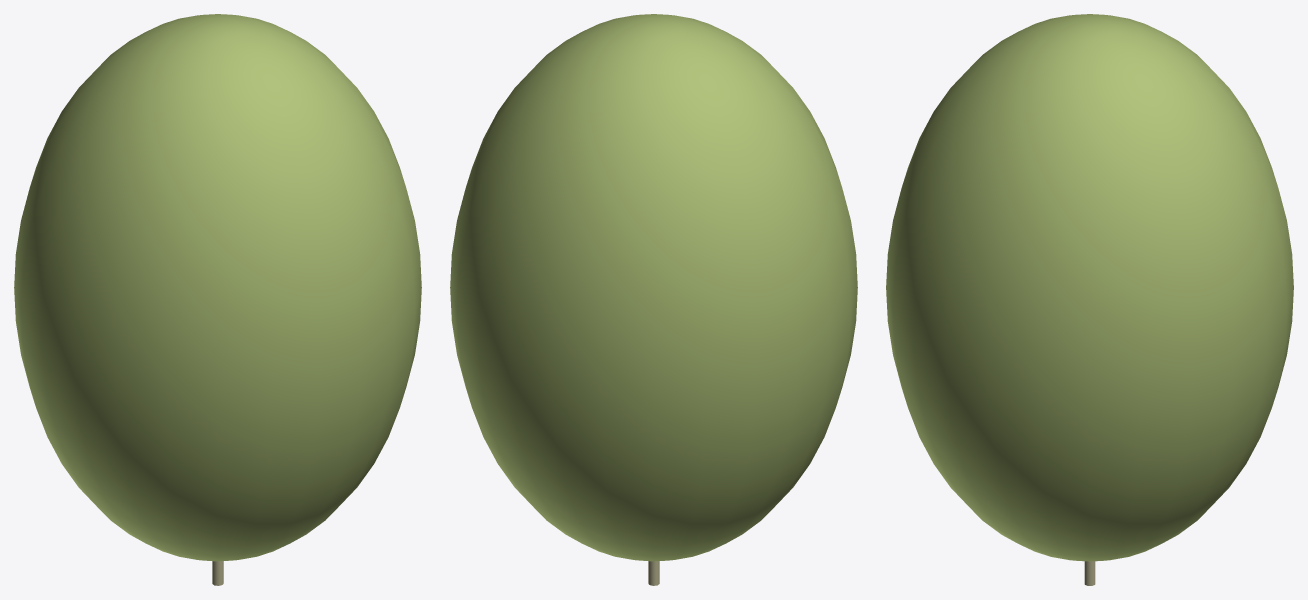
Rendered from FrangulaAlnus.glb.
The picture shows the model from 3 angles, left to right: view 1: azimuth 30°, elevation 25°; view 2: azimuth 150°, elevation 25°; view 3: azimuth 270°, elevation 25°; orthographic projection.
Visible parts, largest first — view 1: Alder_Buckthorn__Schematic_LOD3; view 2: Alder_Buckthorn__Schematic_LOD3; view 3: Alder_Buckthorn__Schematic_LOD3.
Boxes of the visible parts, x1,y1,x2,y2 form: Alder_Buckthorn__Schematic_LOD3: (14,14,421,585); Alder_Buckthorn__Schematic_LOD3: (450,14,857,585); Alder_Buckthorn__Schematic_LOD3: (886,14,1293,585).
Size of the model in its own units: 4.16 by 6.26 by 4.16.
